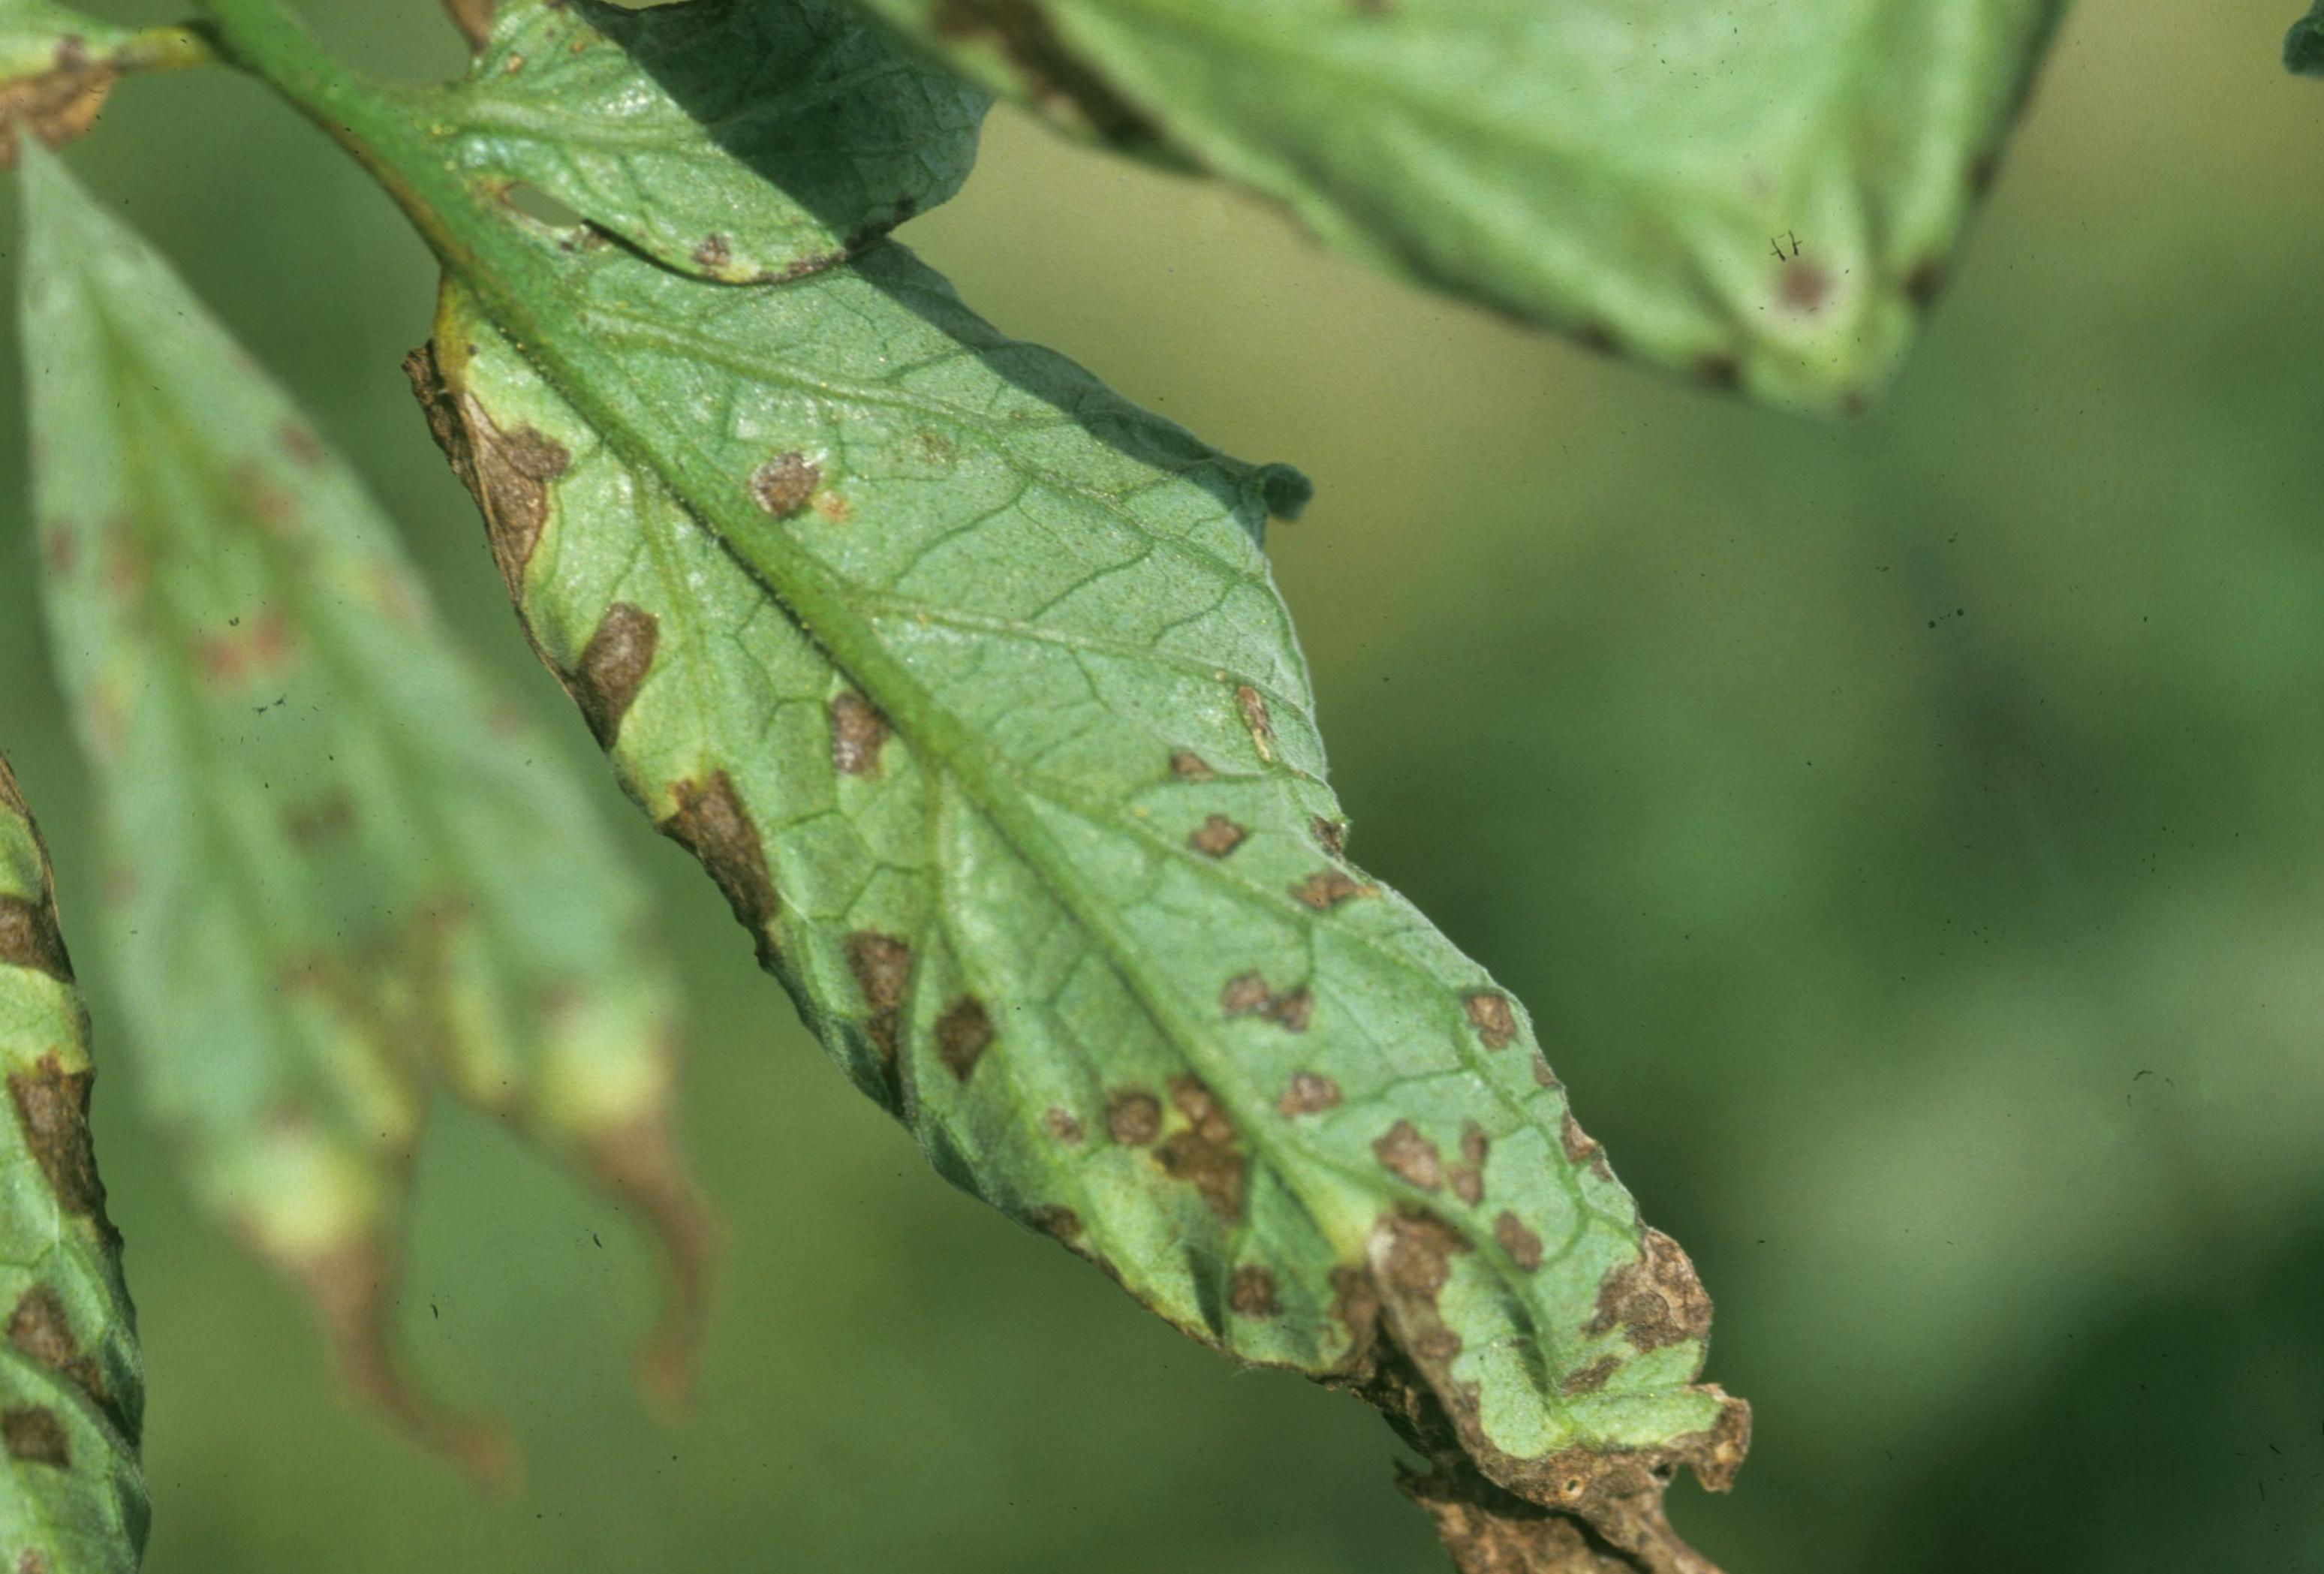Tomato leaf bacterial spot: (219, 0, 1918, 1574)
